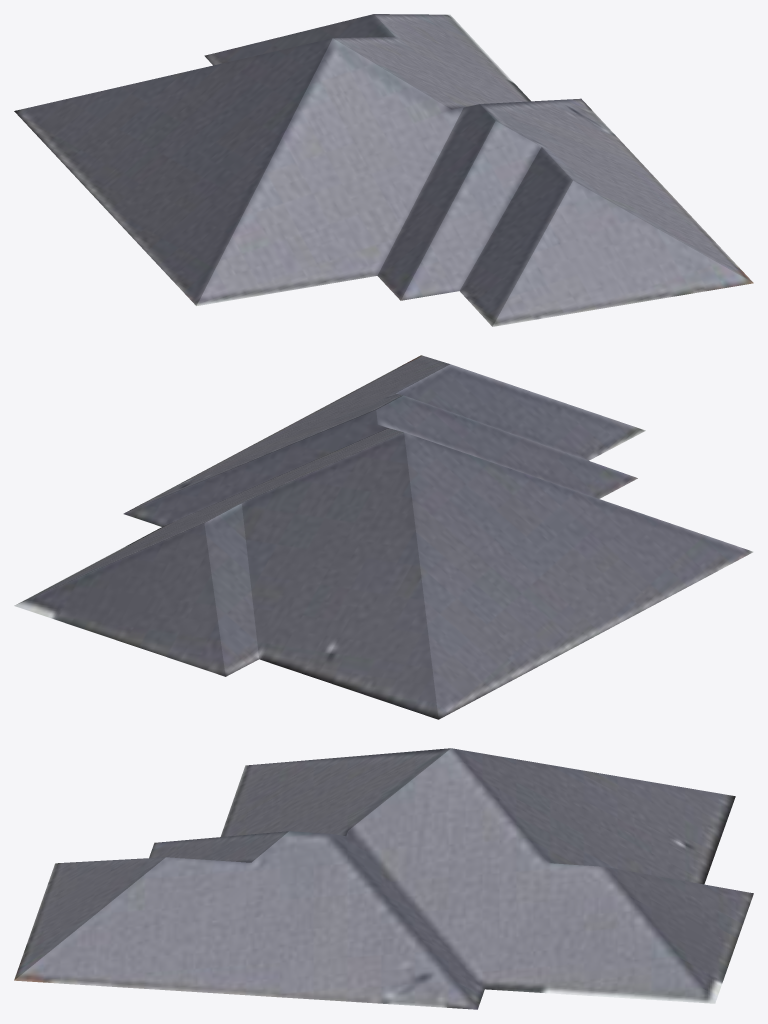
Rendered from CG10_500_048067_0009_roof.obj.
The picture shows the model from 3 angles, top to bottom: view 1: azimuth 30°, elevation 25°; view 2: azimuth 150°, elevation 25°; view 3: azimuth 270°, elevation 25°; orthographic projection. The views are drawn at different scales.
Parts seen in each view (by area): view 1: CG10_500_048067_0009_roof; view 2: CG10_500_048067_0009_roof; view 3: CG10_500_048067_0009_roof.
Part boxes in pixels (left/top/right/bottom): CG10_500_048067_0009_roof: left=14, top=14, right=753, bottom=326; CG10_500_048067_0009_roof: left=14, top=355, right=753, bottom=719; CG10_500_048067_0009_roof: left=14, top=748, right=753, bottom=1009.
Bounding box in the file's own units: 274 × 70 × 351.
Materials: 1 (1 with a texture image).
